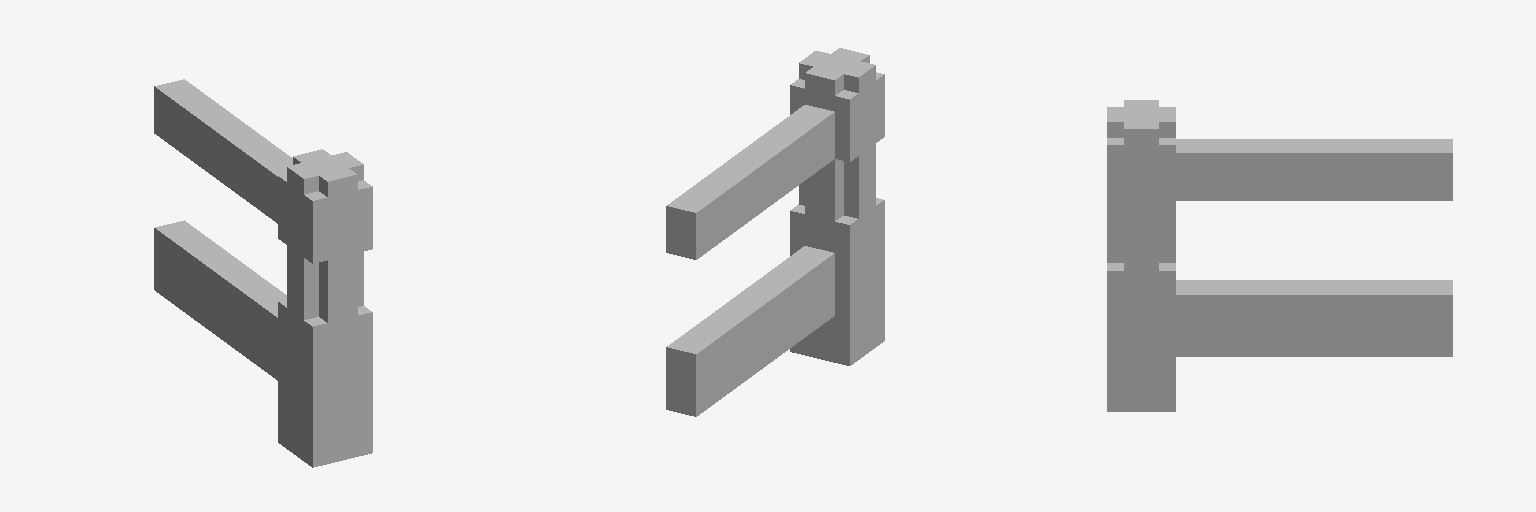
File: fence_part_1.obj
The picture shows the model from 3 angles: view 1: azimuth 30°, elevation 25°; view 2: azimuth 150°, elevation 25°; view 3: azimuth 270°, elevation 25°; orthographic projection.
Visible parts, largest first — view 1: Untitled; view 2: Untitled; view 3: Untitled.
Boxes of the visible parts, x1=… form: Untitled: x1=154, y1=79, x2=372, y2=467; Untitled: x1=666, y1=48, x2=884, y2=416; Untitled: x1=1107, y1=100, x2=1452, y2=411.
Size of the model in its own units: 0.4 by 1.8 by 2.